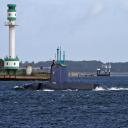submarine: (16, 38, 112, 91)
